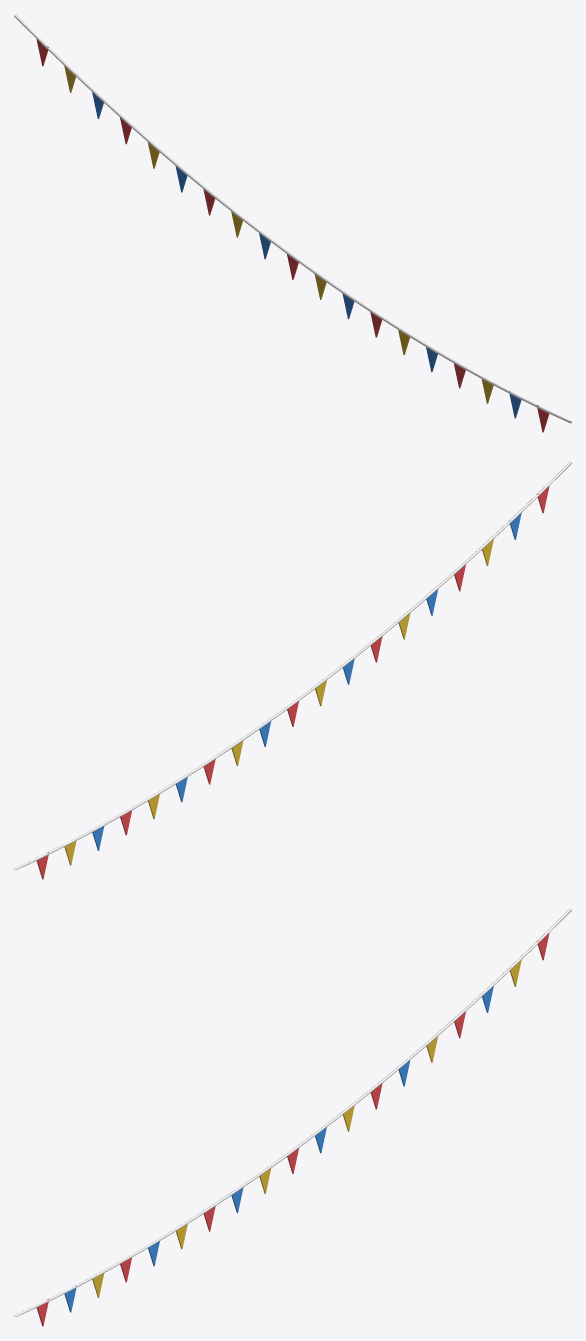
Rendered from MechaMarathonBunting.obj.
3 views of the same model, one above another, from view 1: azimuth 30°, elevation 25°; view 2: azimuth 150°, elevation 25°; view 3: azimuth 330°, elevation 25° (orthographic).
Visible parts, largest first — view 1: String, FlagsA, FlagsB, FlagsC; view 2: String, FlagsA, FlagsB, FlagsC; view 3: String, FlagsA, FlagsB, FlagsC.
Part boxes in pixels (box(x1,y1,x2,y2)): String: box(14, 14, 571, 423); FlagsA: box(36, 39, 549, 432); FlagsB: box(64, 66, 493, 403); FlagsC: box(92, 92, 521, 418); String: box(14, 461, 571, 870); FlagsA: box(36, 486, 549, 879); FlagsB: box(64, 539, 493, 865); FlagsC: box(92, 513, 521, 850); String: box(14, 908, 571, 1317); FlagsA: box(36, 933, 549, 1326); FlagsB: box(92, 960, 521, 1297); FlagsC: box(64, 986, 493, 1312).
Bounding box in the file's own units: 0.0866 × 2.47 × 40.01.
